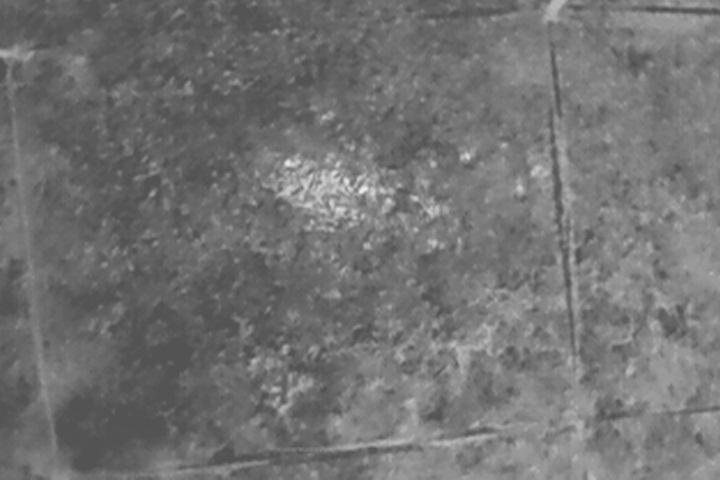landmine: (282, 165, 347, 218)
